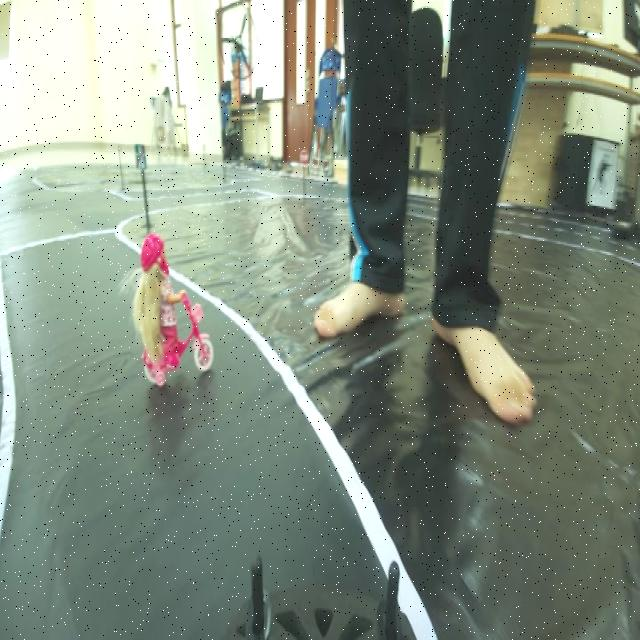pedestrian: (122, 231, 224, 403)
